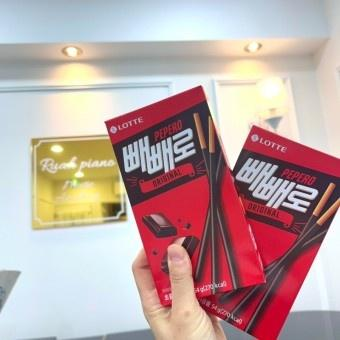snack: (105, 83, 267, 307)
